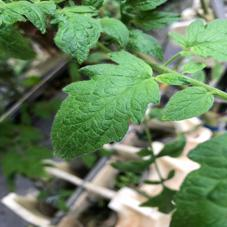Healthy: (52, 50, 161, 164), (160, 84, 215, 124)
